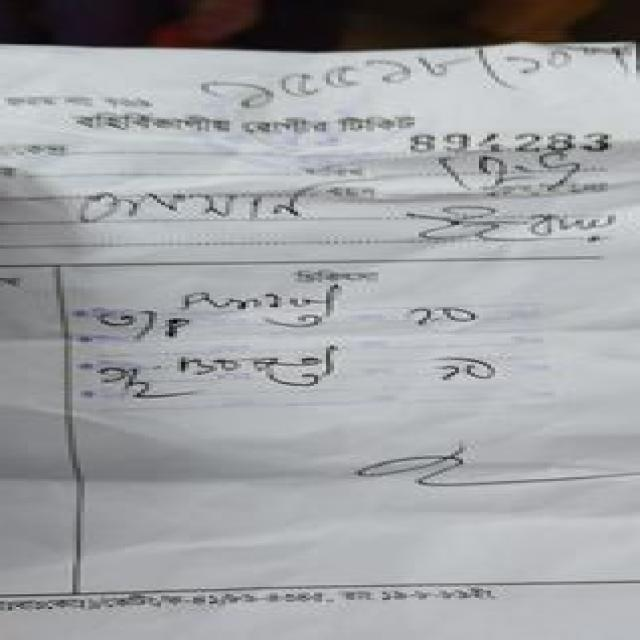Boxol: (153, 342, 356, 388)
Purisal: (128, 269, 362, 326)
